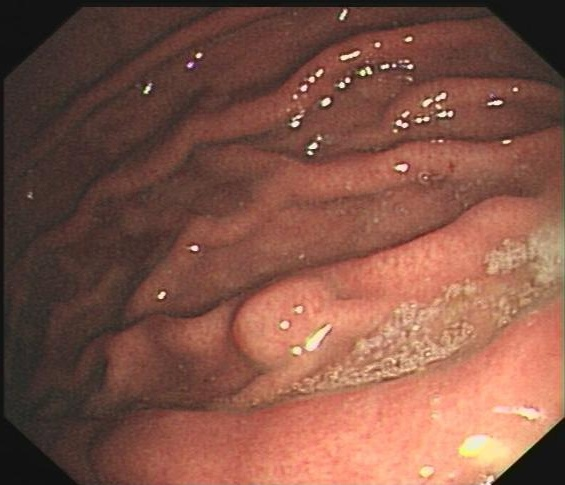Polyp: (229, 268, 335, 376)
